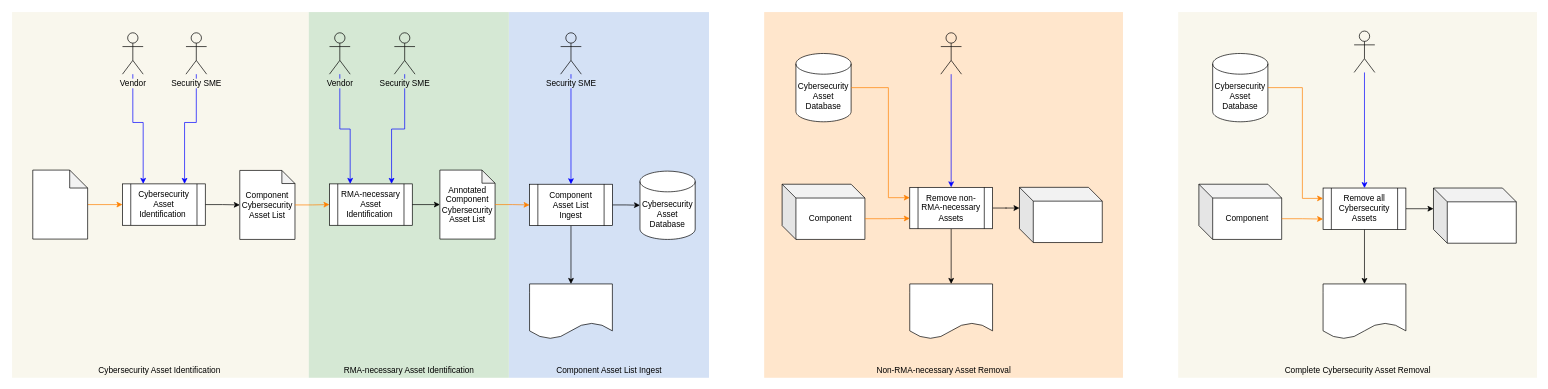
The diagram is 1548 pixels wide and 389 high, and some of its shapes have lost their labels. Each missing label, with the centre of its shape:
Component Cybersecurity Asset Report: the point at 570,311
Component Information: the point at 60,204
Cybersecurity Decommissioning Report: the point at 1364,311
EoL-ready Component: the point at 1474,215
non-RMA-necessary Asset Removal Report: the point at 951,311
Operations Engineer: the point at 951,53
Operations SME: the point at 1364,51
RMA-ready Component: the point at 1060,215
